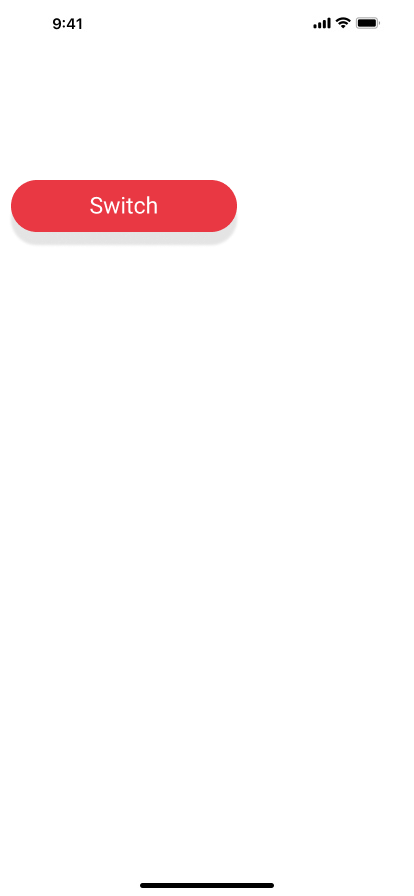Buttons: (8, 180, 240, 248)
Home Indicator: (0, 862, 414, 896)
Status Bar: (0, 0, 414, 44)
